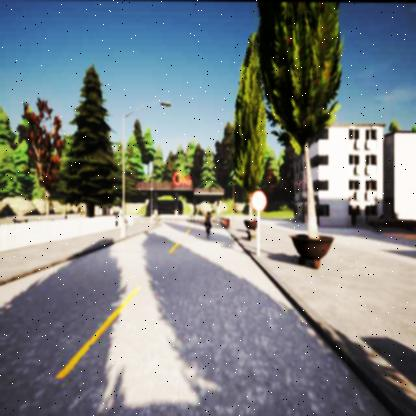motobike: (204, 212, 213, 238)
